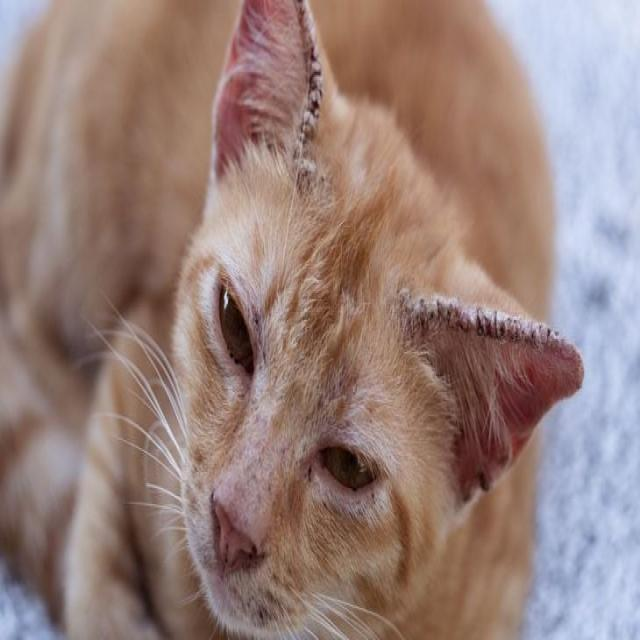cat-scabies: (404, 282, 536, 351), (288, 2, 324, 156)
